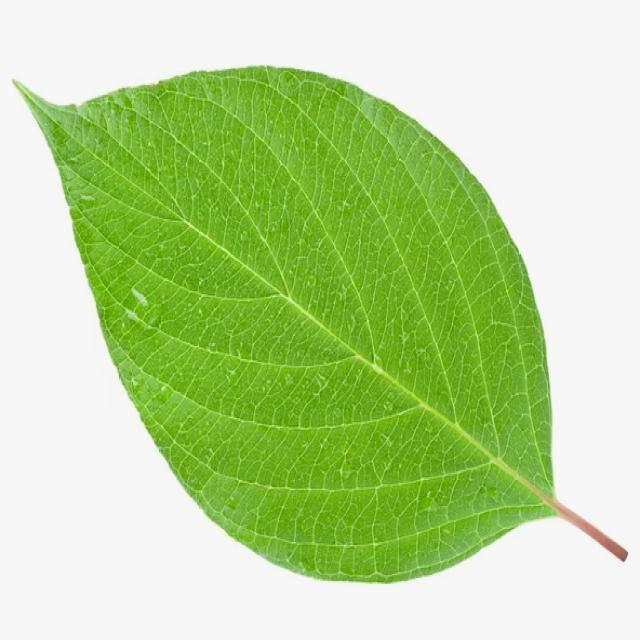leaf: (11, 63, 626, 584)
